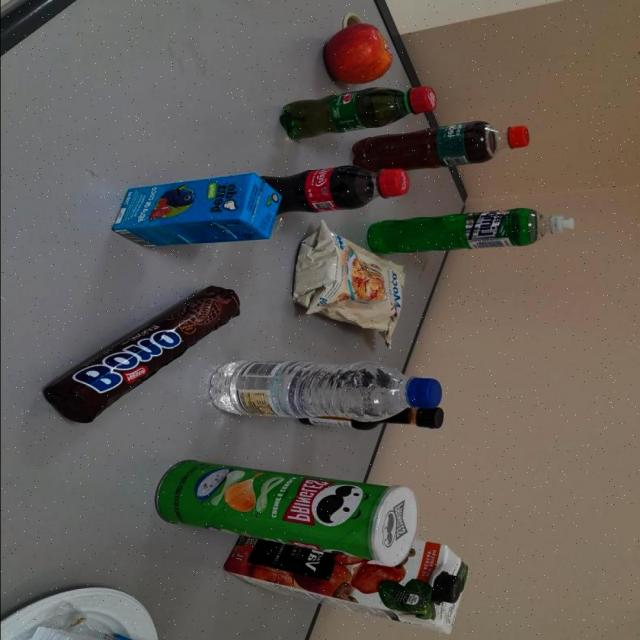Apple: (322, 22, 393, 84)
Cleaner: (366, 208, 572, 257)
CoconutWater: (108, 176, 280, 246)
Coke: (263, 164, 407, 215)
Cookies: (40, 286, 241, 420)
CornFlakes: (287, 223, 408, 342)
EnglishSauce: (374, 409, 442, 426)
Guarana: (281, 87, 437, 140)
IceTea: (350, 119, 528, 171)
Pringles: (154, 454, 421, 566)
Water: (208, 356, 442, 424)
